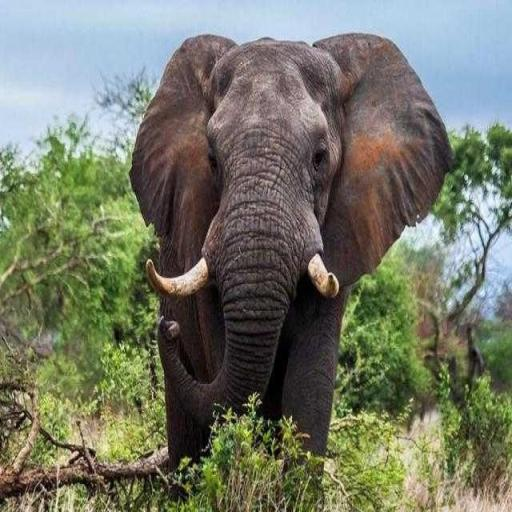Elephant: (128, 30, 455, 488)
